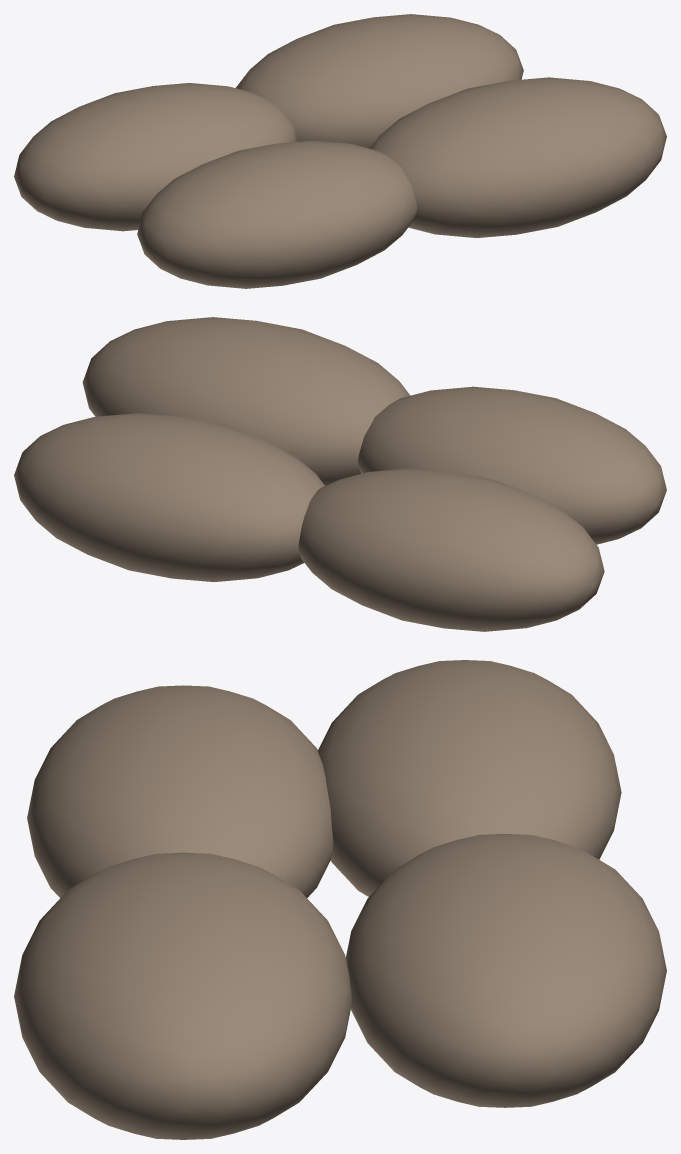
3 views of the same model, one above another, from view 1: azimuth 30°, elevation 25°; view 2: azimuth 150°, elevation 25°; view 3: azimuth 270°, elevation 25° (orthographic). The views are drawn at different scales.
Parts seen in each view (by area): view 1: TI044 / individual ant egg.003, TI044 / individual ant egg.002, TI044 / individual ant egg, TI044 / individual ant egg.001; view 2: TI044 / individual ant egg.001, TI044 / individual ant egg, TI044 / individual ant egg.003, TI044 / individual ant egg.002; view 3: TI044 / individual ant egg.003, TI044 / individual ant egg.001, TI044 / individual ant egg, TI044 / individual ant egg.002.
Boxes of the visible parts, left/top/right/bottom form: TI044 / individual ant egg.003: left=370, top=77, right=666, bottom=237; TI044 / individual ant egg.002: left=137, top=140, right=417, bottom=288; TI044 / individual ant egg: left=14, top=83, right=297, bottom=231; TI044 / individual ant egg.001: left=236, top=14, right=523, bottom=148; TI044 / individual ant egg.001: left=14, top=413, right=324, bottom=581; TI044 / individual ant egg: left=298, top=468, right=604, bottom=631; TI044 / individual ant egg.003: left=82, top=317, right=410, bottom=485; TI044 / individual ant egg.002: left=358, top=386, right=666, bottom=544; TI044 / individual ant egg.003: left=14, top=852, right=351, bottom=1139; TI044 / individual ant egg.001: left=346, top=834, right=666, bottom=1107; TI044 / individual ant egg: left=318, top=660, right=621, bottom=896; TI044 / individual ant egg.002: left=27, top=685, right=333, bottom=897.
Size of the model in its own units: 2.45 by 0.52 by 1.63.
